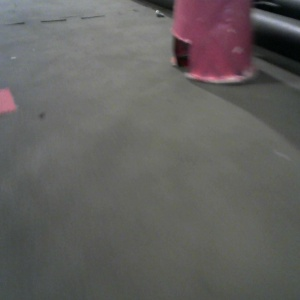right: (164, 1, 239, 64)
